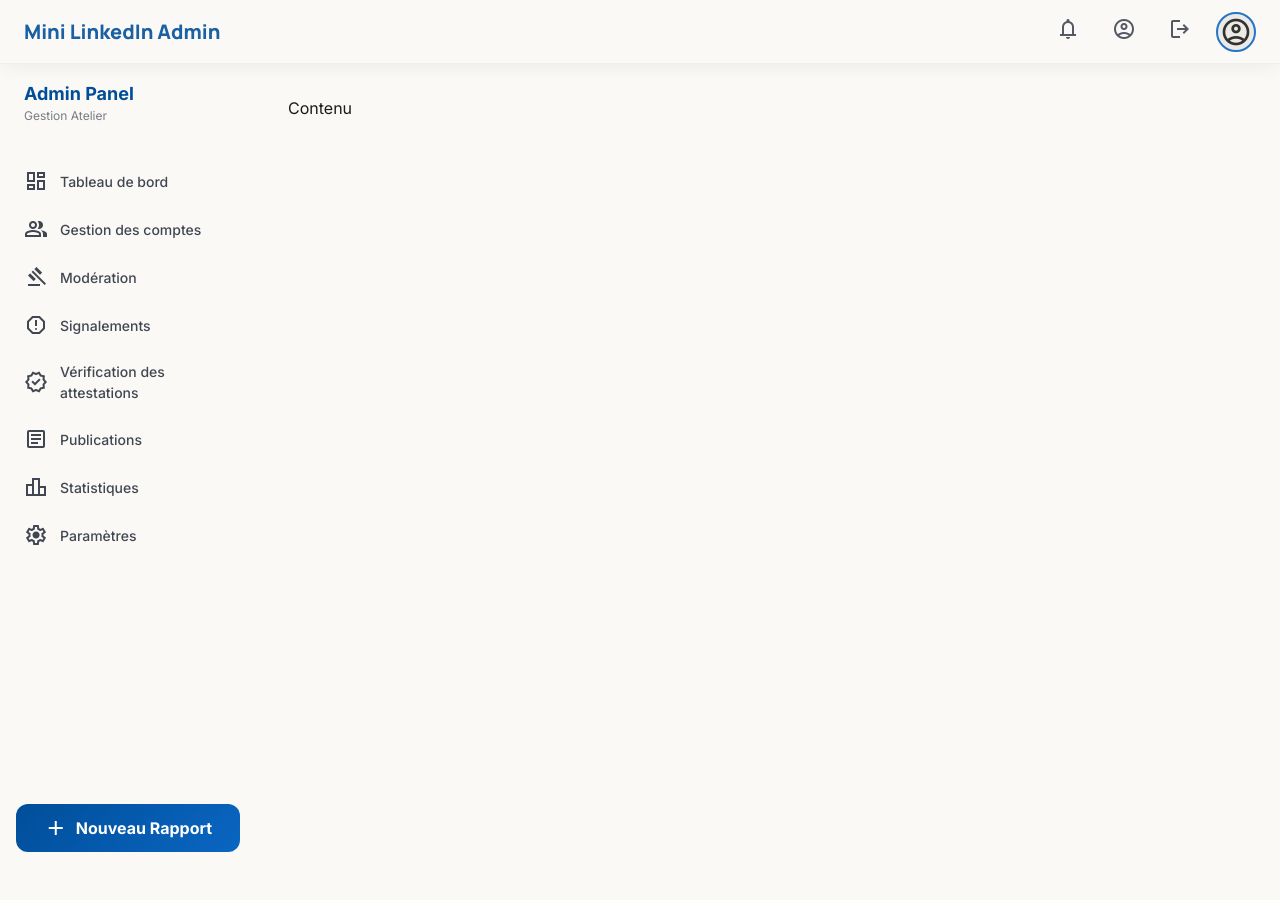
Test: AdminLayout › affiche "Aucune notification" si pas de notifications
This screenshot has width=1280, height=900.
What coordinates should you click on to do the following:
click the 1st button "notifications"
I would click on:
 (1068, 32)
Its box is [1048,8,1088,54].
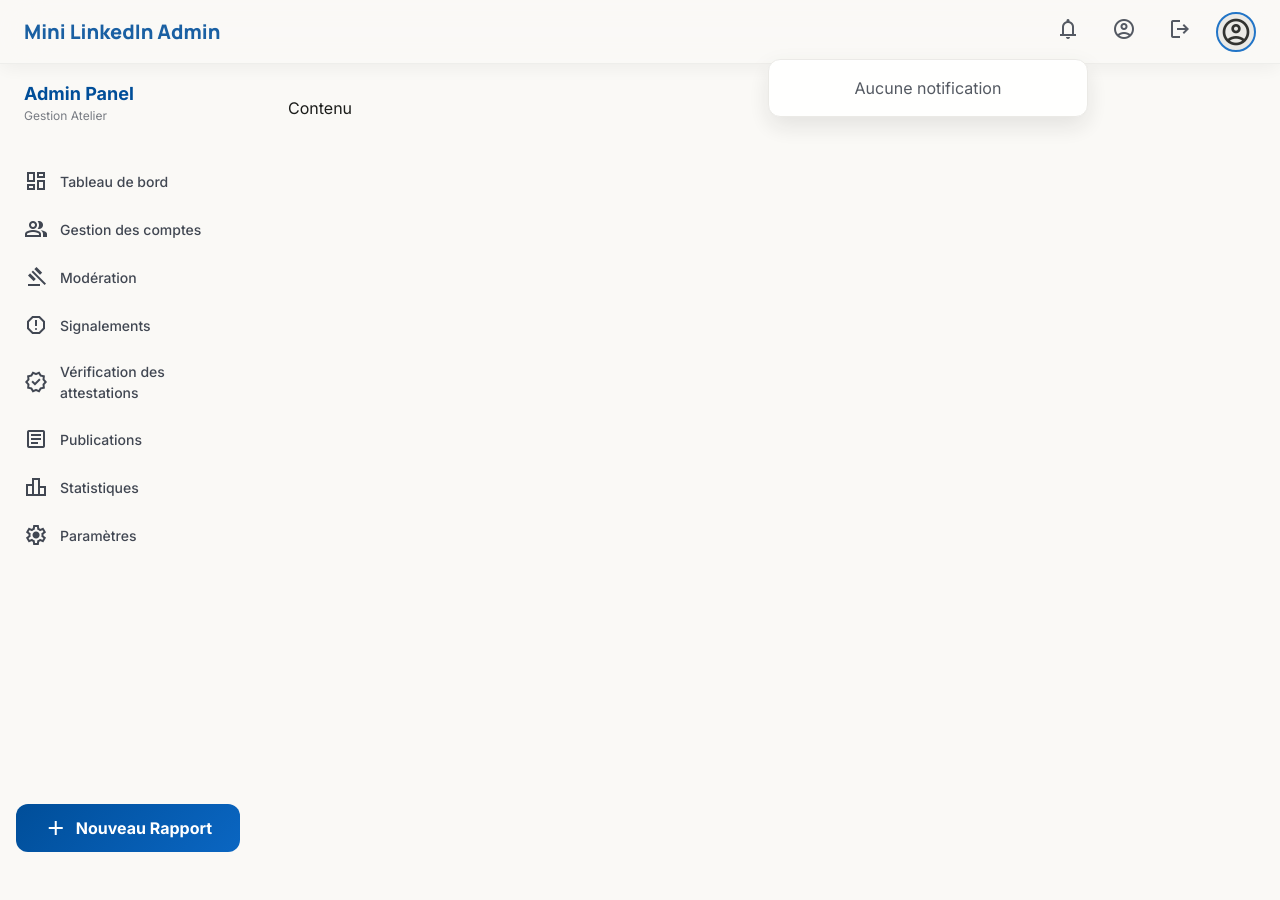
Expected: the text "Aucune notification" is shown, [855,78,1001,98]
